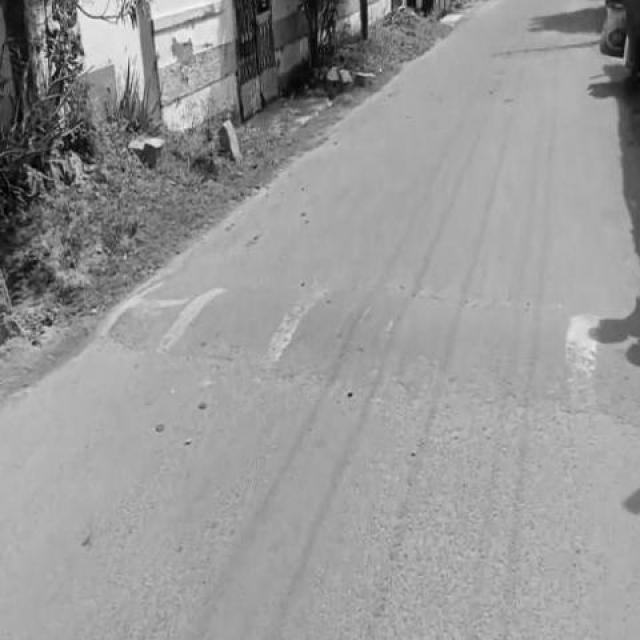Speed Bump: (97, 277, 640, 428)
